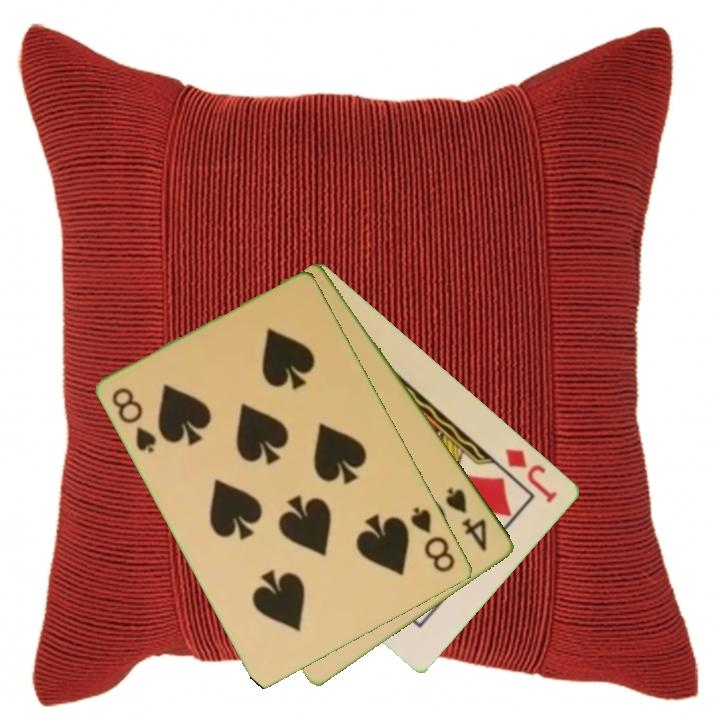4s: (442, 484, 491, 555)
8s: (407, 503, 459, 576), (109, 384, 160, 456)
Jd: (502, 444, 561, 506)
